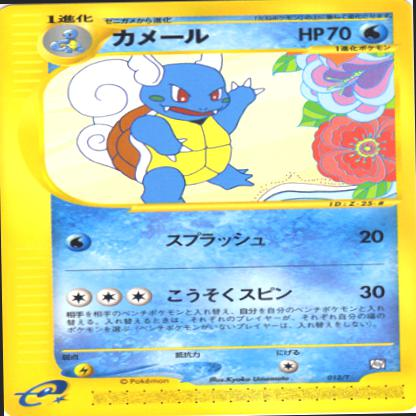Wartortle: (85, 58, 262, 202)
